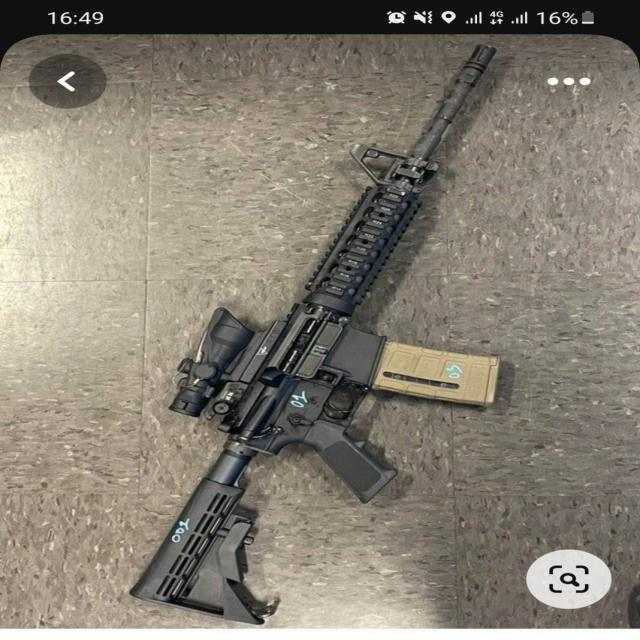m16: (138, 71, 508, 571)
